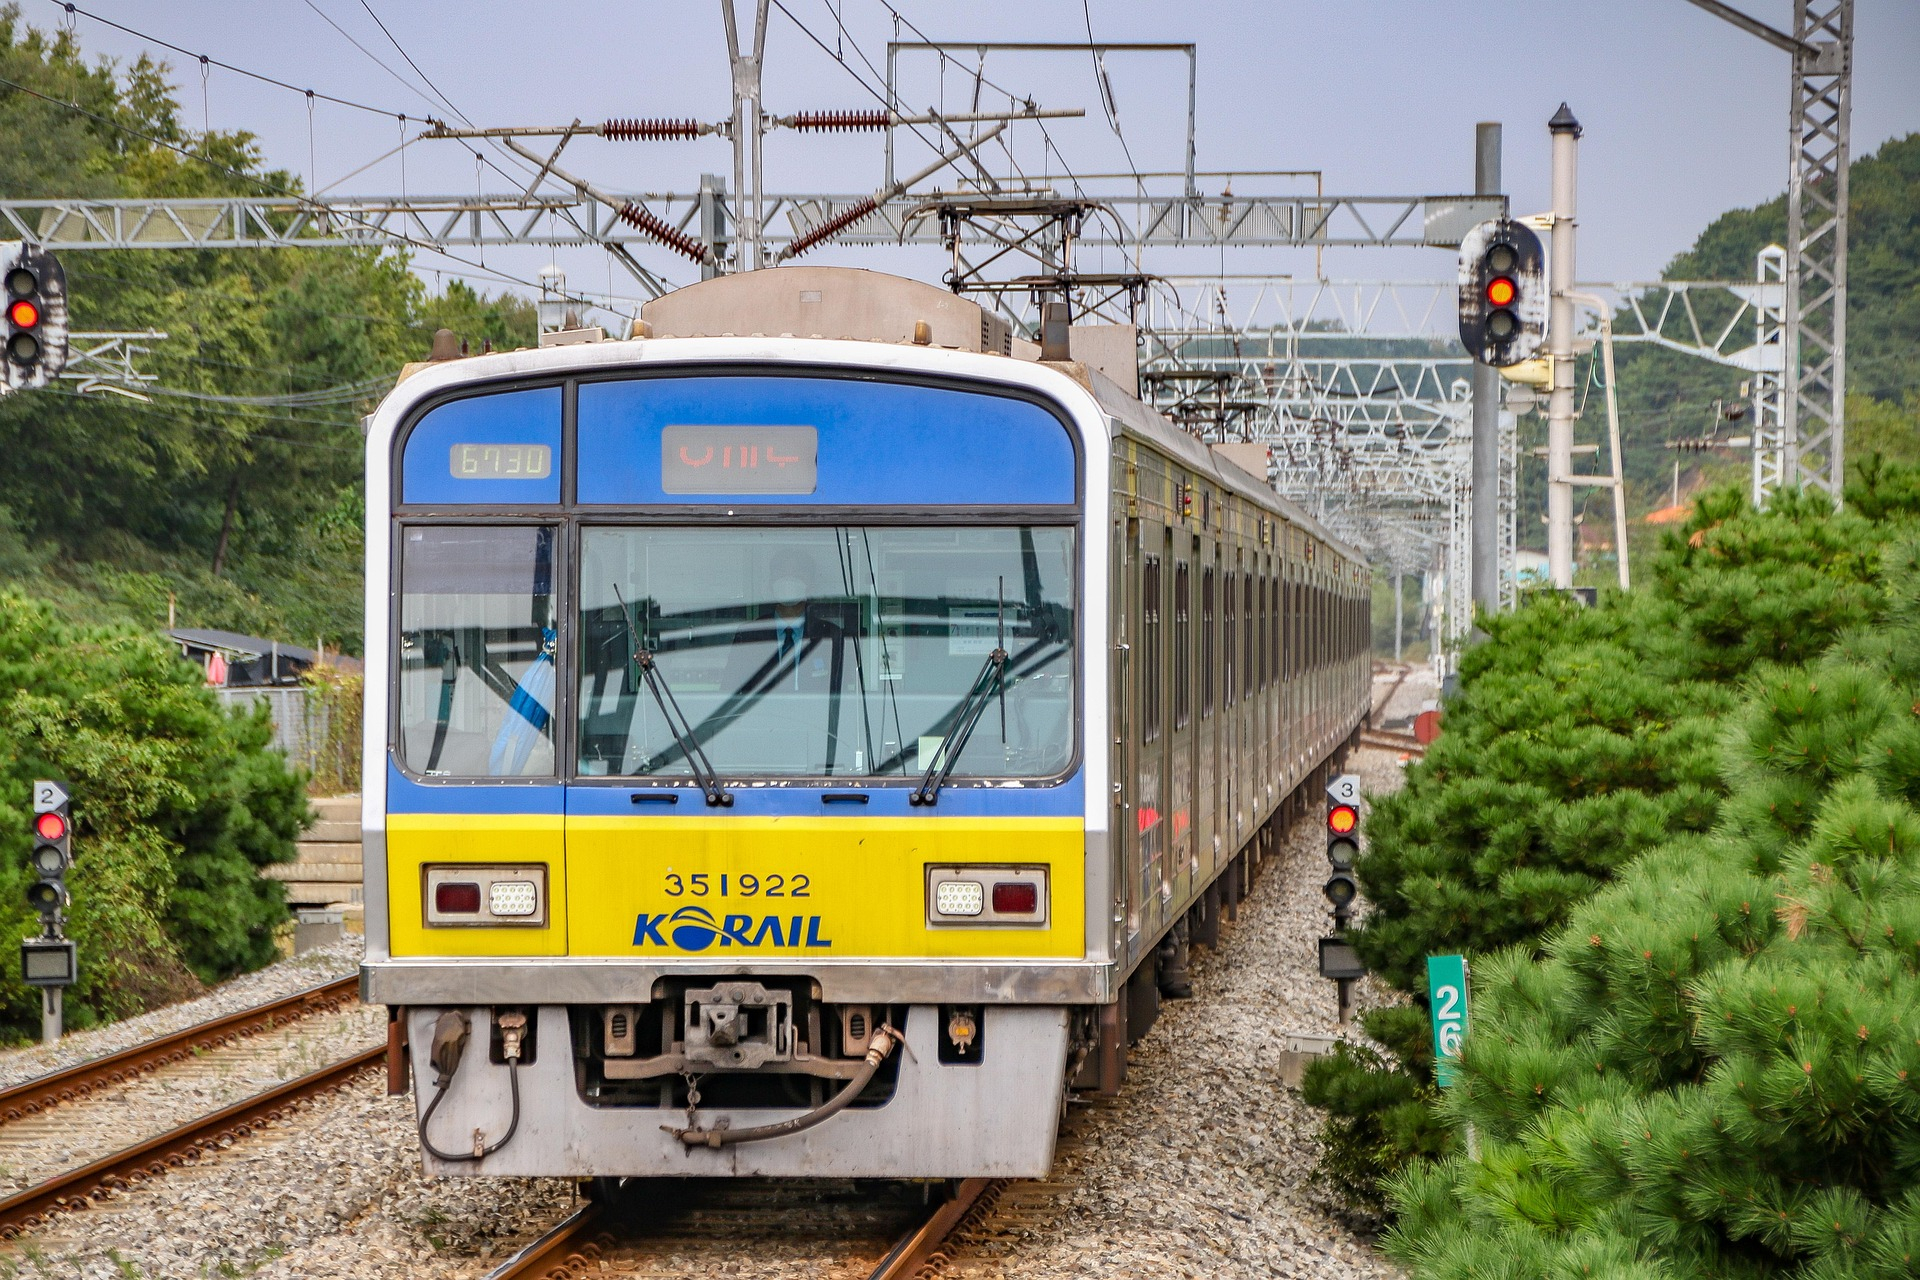train1: (346, 254, 1391, 1196)
